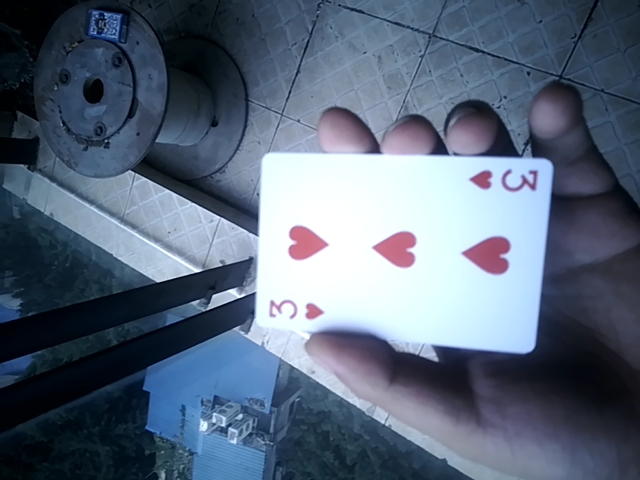hx 3: (252, 154, 561, 354)
